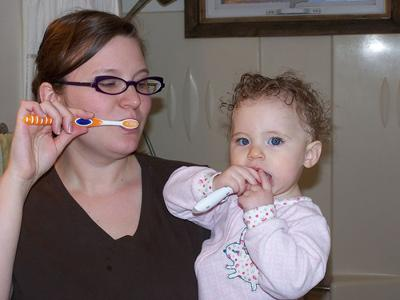person: (2, 11, 213, 300)
